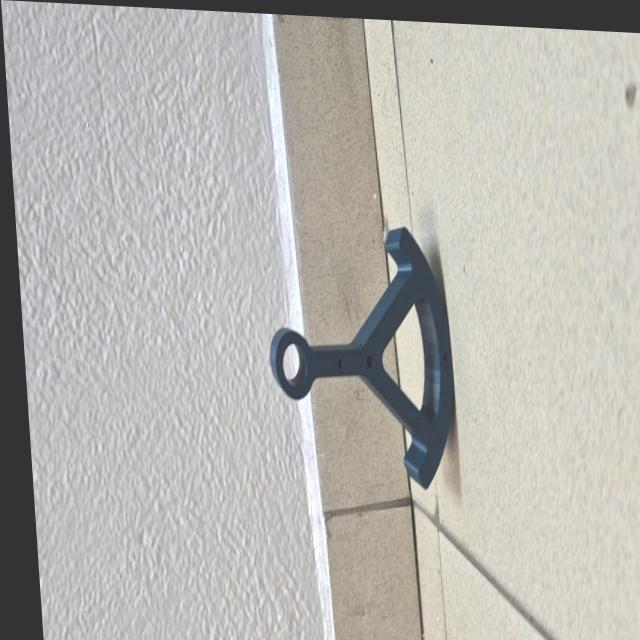haptic: (258, 217, 462, 495)
